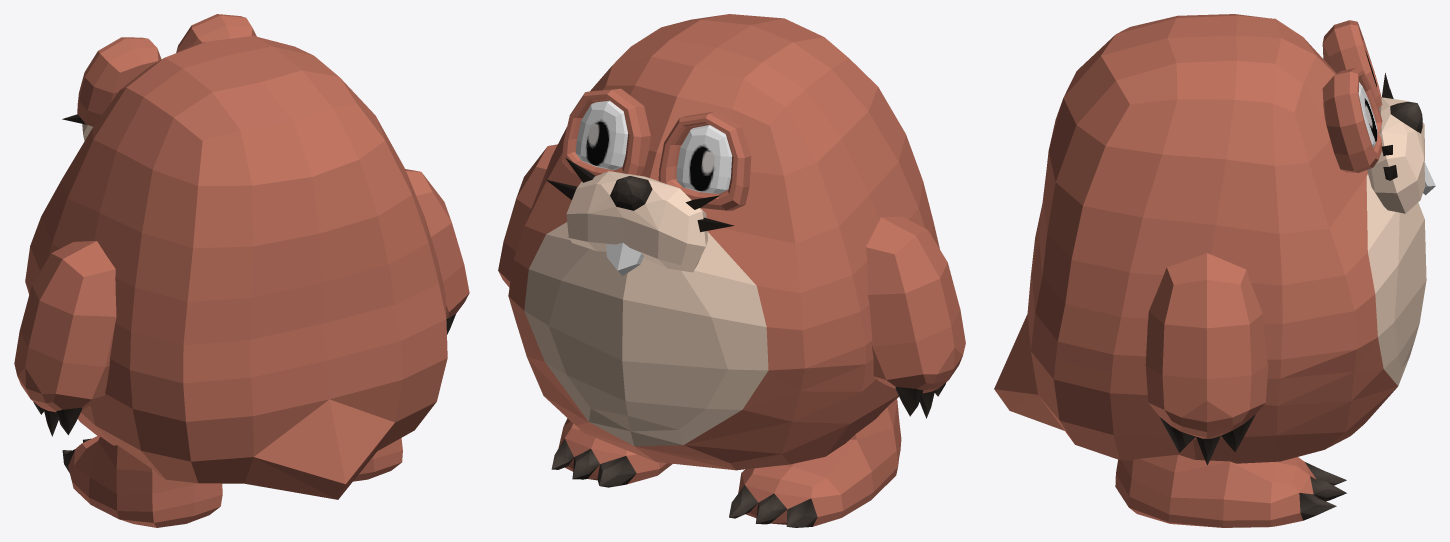
Rendered from Mole.fbx.
3 renders of one model, left to right at view 1: azimuth 30°, elevation 25°; view 2: azimuth 150°, elevation 25°; view 3: azimuth 270°, elevation 25°, orthographic. The views are drawn at different scales.
Visible parts, largest first — view 1: Body, Hand_L, foot_L, Eyes, Hand_R, foot_R; view 2: Body, Hand_L, Eyes, foot_L, Face, foot_R, Hand_R, whiskers, Teeth; view 3: Body, Hand_R, foot_R, Eyes, Face.
Part boxes in pixels (left/top/right/bottom): Body: left=25, top=36, right=447, bottom=499; Hand_L: left=14, top=241, right=116, bottom=436; foot_L: left=62, top=436, right=222, bottom=527; Eyes: left=77, top=14, right=256, bottom=126; Hand_R: left=405, top=169, right=469, bottom=334; foot_R: left=353, top=438, right=402, bottom=481; Body: left=508, top=14, right=939, bottom=470; Hand_L: left=866, top=216, right=965, bottom=418; Eyes: left=562, top=88, right=751, bottom=210; foot_L: left=729, top=399, right=901, bottom=527; Face: left=566, top=171, right=707, bottom=272; foot_R: left=551, top=418, right=672, bottom=487; Hand_R: left=498, top=144, right=557, bottom=287; whiskers: left=546, top=158, right=734, bottom=232; Teeth: left=606, top=243, right=644, bottom=275; Body: left=994, top=14, right=1426, bottom=463; Hand_R: left=1145, top=253, right=1268, bottom=465; foot_R: left=1115, top=454, right=1346, bottom=527; Eyes: left=1322, top=20, right=1382, bottom=172; Face: left=1367, top=97, right=1424, bottom=213.
Bounding box in the file's own units: 375 × 348 × 321.
